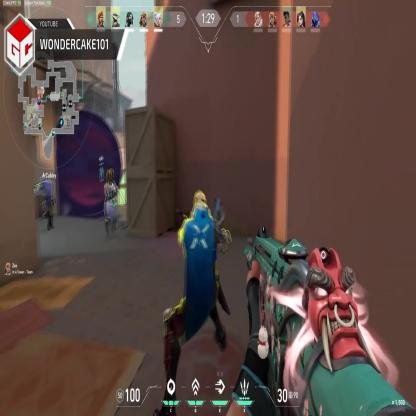enemy: (160, 179, 228, 410), (102, 171, 119, 235), (37, 170, 55, 229)
enemy_head: (192, 192, 207, 218), (39, 172, 46, 186), (107, 171, 114, 183)
